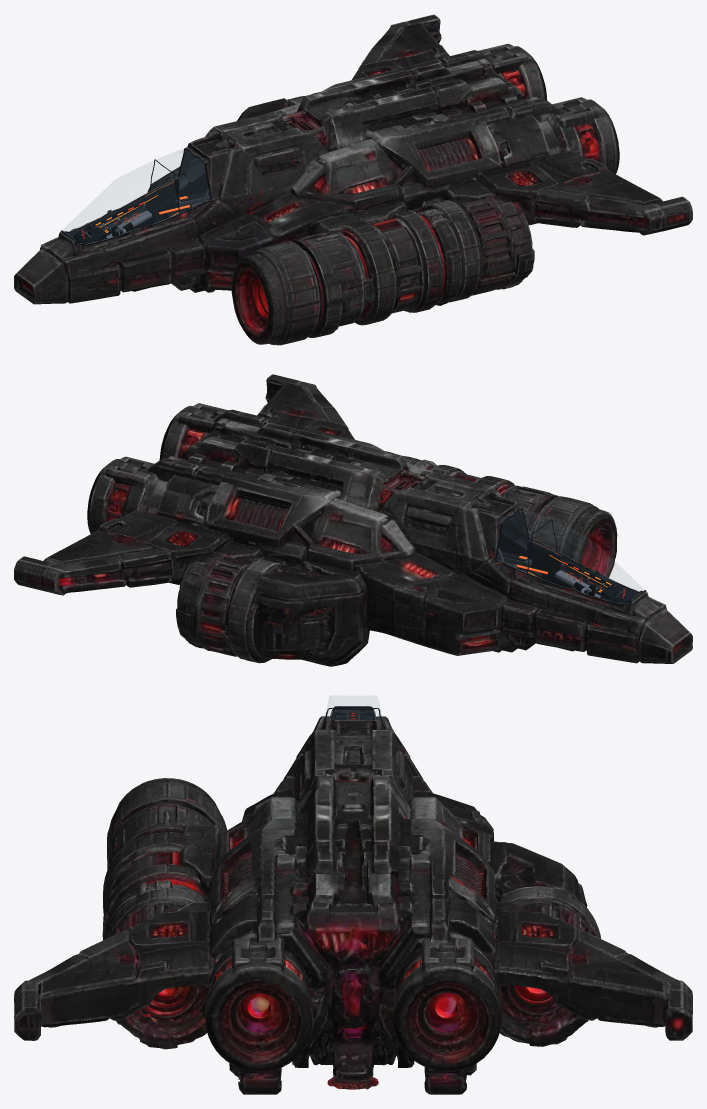
The model's file is pyro.glb.
3 views of the same model, one above another, from view 1: azimuth 30°, elevation 25°; view 2: azimuth 150°, elevation 25°; view 3: azimuth 270°, elevation 25° (orthographic). The views are drawn at different scales.
Visible parts, largest first — view 1: Pyro_Hull_01_Glazed, Pyro_Windshield_Glass, LIN13_pyro_ConformalCabinShell, Pyro_v04_BackrestShell, GL11_pyro_CanopyGasket_0, GL11_pyro_AftCanopyArch, GL11_pyro_CanopyFrame_0; view 2: Pyro_Hull_01_Glazed, Pyro_Windshield_Glass, LIN13_pyro_ConformalCabinShell, Pyro_v04_BackrestShell, GL11_pyro_CanopyGasket_0, GL11_pyro_AftCanopyArch, GL11_pyro_CanopyFrame_0; view 3: Pyro_Hull_01_Glazed, Pyro_Windshield_Glass.
Part boxes in pixels (box(x1,y1,x2,y2)): Pyro_Hull_01_Glazed: box(14, 14, 692, 345); Pyro_Windshield_Glass: box(63, 149, 195, 230); LIN13_pyro_ConformalCabinShell: box(66, 149, 258, 307); Pyro_v04_BackrestShell: box(145, 173, 208, 221); GL11_pyro_CanopyGasket_0: box(61, 148, 211, 245); GL11_pyro_AftCanopyArch: box(73, 159, 179, 246); GL11_pyro_CanopyFrame_0: box(61, 148, 210, 244); Pyro_Hull_01_Glazed: box(14, 374, 692, 666); Pyro_Windshield_Glass: box(510, 509, 643, 590); LIN13_pyro_ConformalCabinShell: box(501, 504, 638, 644); Pyro_v04_BackrestShell: box(498, 533, 561, 580); GL11_pyro_CanopyGasket_0: box(495, 508, 646, 605); GL11_pyro_AftCanopyArch: box(527, 519, 633, 603); GL11_pyro_CanopyFrame_0: box(497, 507, 645, 603); Pyro_Hull_01_Glazed: box(14, 709, 692, 1094); Pyro_Windshield_Glass: box(321, 696, 383, 727).
Size of the model in its own units: 1.9 by 0.5246 by 1.59.
21 materials, 1 textured.
